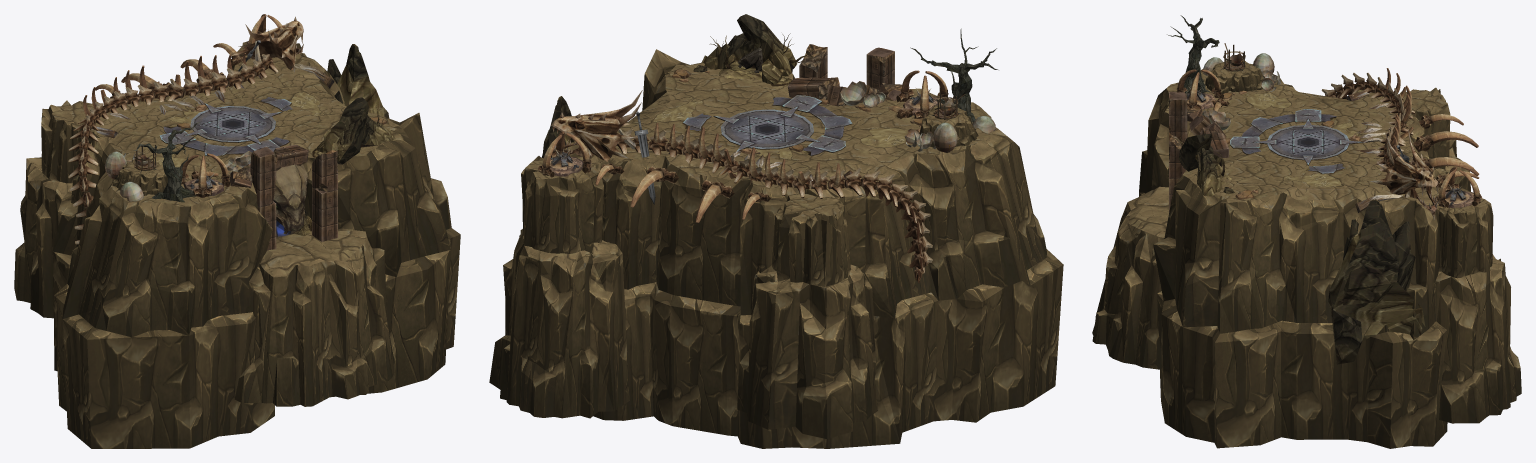
Rendered from Cell2LR.fbx.
3 views of the same model, side by side, from view 1: azimuth 30°, elevation 25°; view 2: azimuth 150°, elevation 25°; view 3: azimuth 270°, elevation 25° (orthographic). The views are drawn at different scales.
Visible parts, largest first — view 1: Cell2LR; view 2: Cell2LR; view 3: Cell2LR.
Boxes of the visible parts, x1,y1,x2,y2 form: Cell2LR: [14, 14, 460, 448]; Cell2LR: [489, 14, 1063, 448]; Cell2LR: [1092, 15, 1521, 448].
Size of the model in its own units: 22.08 by 16.22 by 21.73.
